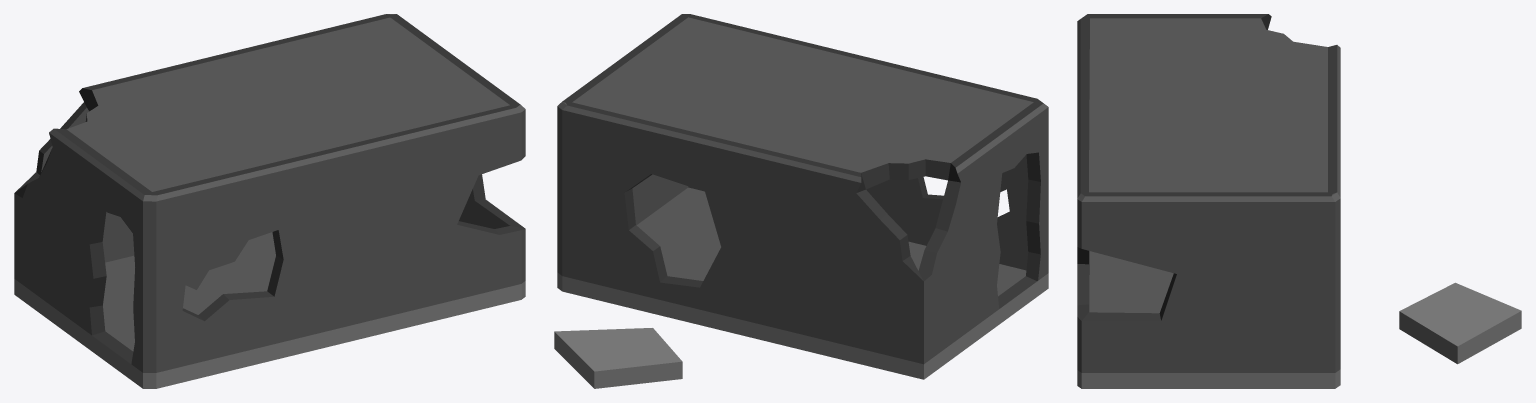
The model's file is RuinsExtensions.glb.
3 renders of one model, left to right at view 1: azimuth 30°, elevation 25°; view 2: azimuth 150°, elevation 25°; view 3: azimuth 270°, elevation 25°, orthographic. The views are drawn at different scales.
Visible parts, largest first — view 1: Extension; view 2: Extension, Fragment; view 3: Extension, Fragment.
Boxes of the visible parts, bbox=[...] form: Extension: bbox=[14, 14, 525, 388]; Extension: bbox=[557, 14, 1048, 379]; Fragment: bbox=[554, 328, 682, 388]; Extension: bbox=[1077, 14, 1340, 388]; Fragment: bbox=[1399, 282, 1521, 364].
Size of the model in its own units: 5 by 2.45 by 5.06.
2 materials, 2 textured.
